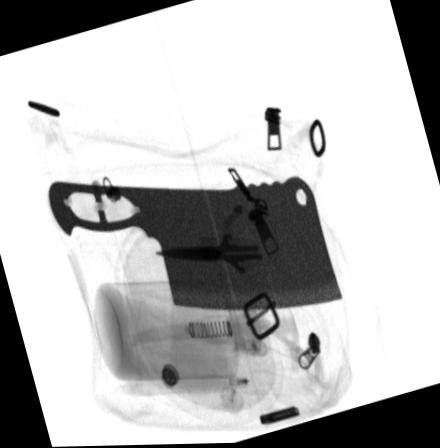Knife: (48, 179, 343, 311)
Scissors: (155, 203, 290, 294)
